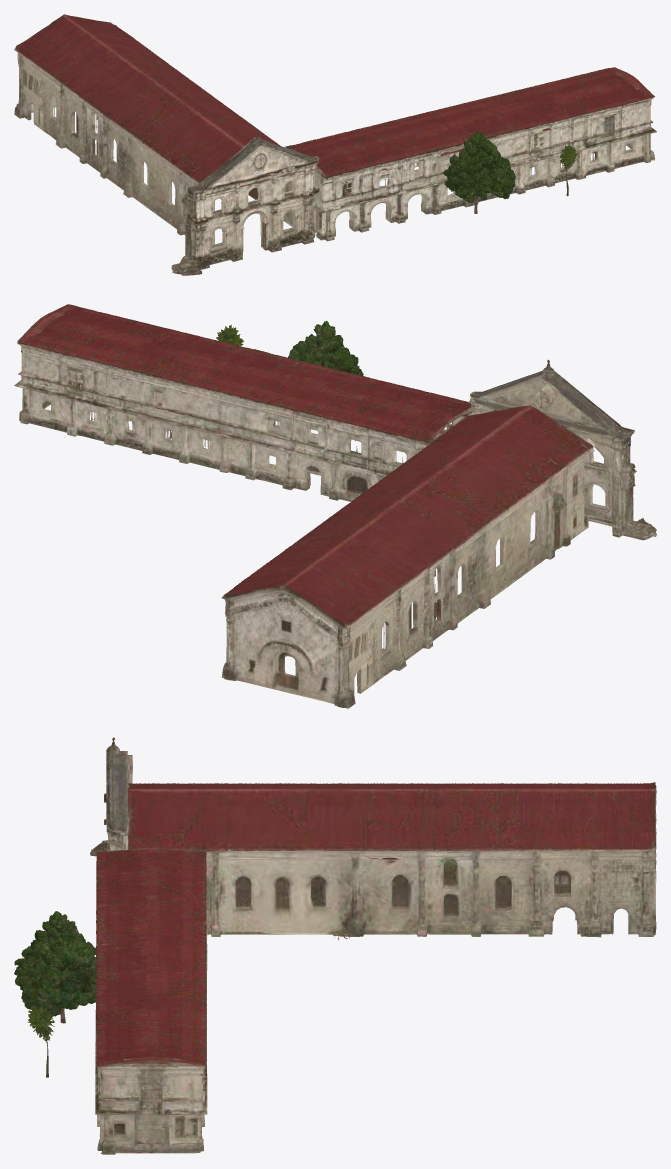
Rendered from 01M3W1QQVGZRDS724GGNRDNA1G.glb.
3 views of the same model, one above another, from view 1: azimuth 30°, elevation 25°; view 2: azimuth 150°, elevation 25°; view 3: azimuth 270°, elevation 25° (orthographic). The views are drawn at different scales.
Bounding box in the file's own units: 1.85 × 0.4478 × 1.61.
Materials: 1 (1 with a texture image).
